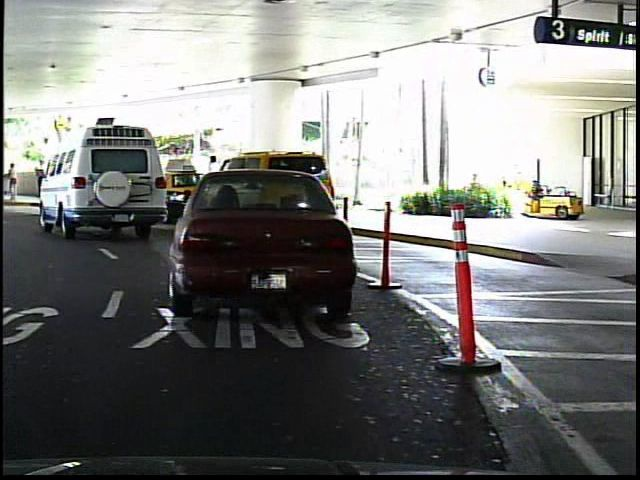person: (203, 152, 226, 211), (6, 161, 23, 202), (39, 156, 44, 199)
